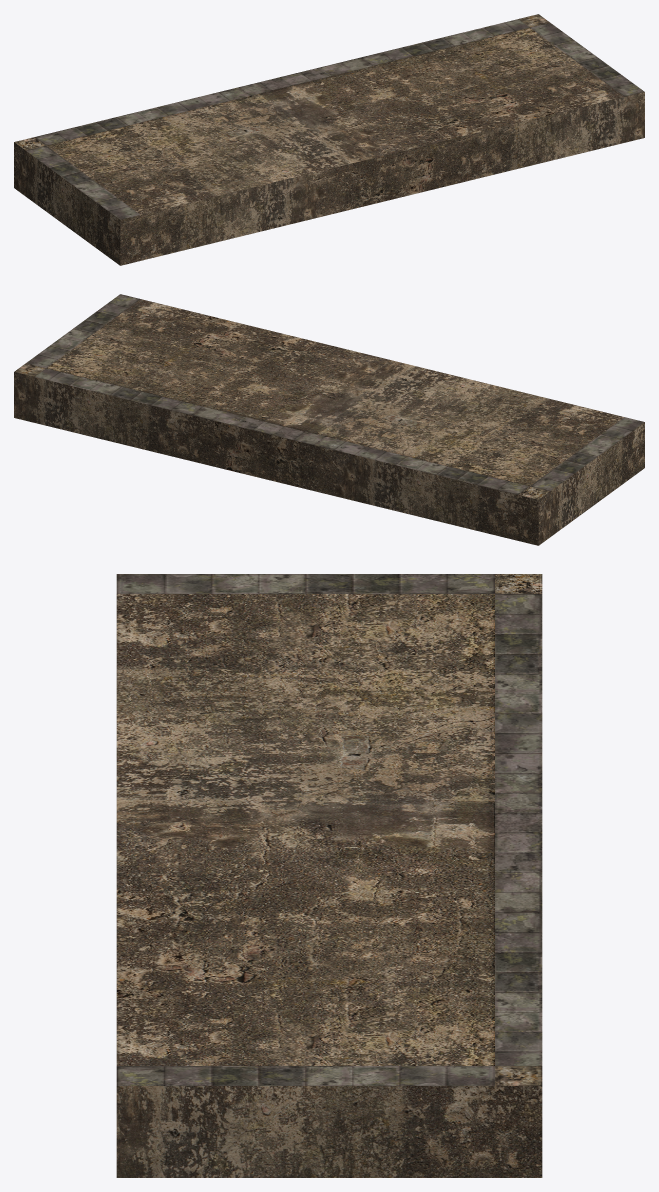
The model's file is materials_5_floor_rectangle_16.fbx.
3 views of the same model, one above another, from view 1: azimuth 30°, elevation 25°; view 2: azimuth 150°, elevation 25°; view 3: azimuth 270°, elevation 25° (orthographic). The views are drawn at different scales.
Visible parts, largest first — view 1: materials_5_floor_rectangle_16; view 2: materials_5_floor_rectangle_16; view 3: materials_5_floor_rectangle_16.
Boxes of the visible parts, x1,y1,x2,y2 form: materials_5_floor_rectangle_16: (14,14,644,265); materials_5_floor_rectangle_16: (14,294,644,545); materials_5_floor_rectangle_16: (116,574,542,1177).
Bounding box in the file's own units: 512 × 42.89 × 180.
